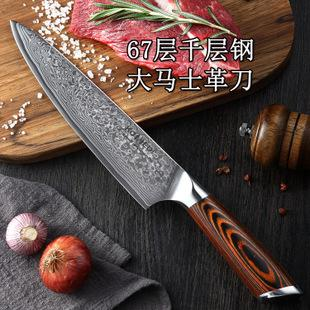knife: (6, 18, 290, 306)
